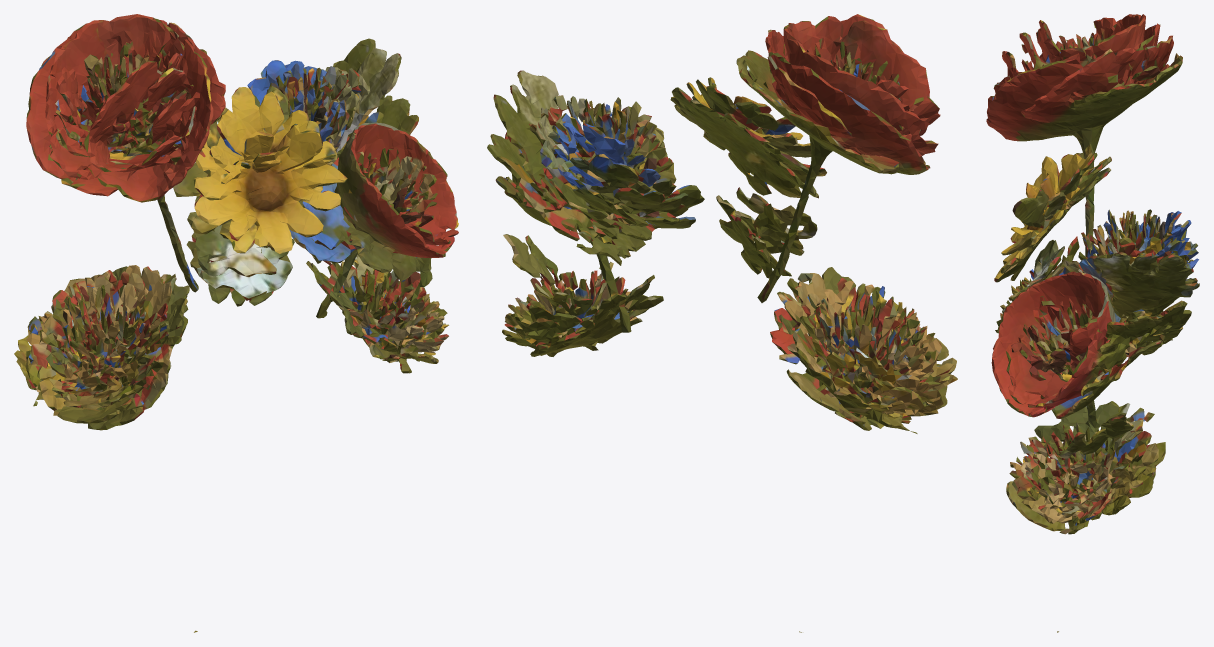
Rendered from prop-flowers.glb.
3 views of the same model, side by side, from view 1: azimuth 30°, elevation 25°; view 2: azimuth 150°, elevation 25°; view 3: azimuth 270°, elevation 25° (orthographic). The views are drawn at different scales.
Visible parts, largest first — view 1: geometry_0; view 2: geometry_0; view 3: geometry_0.
Boxes of the visible parts, x1,y1,x2,y2 form: geometry_0: (14,14,458,632); geometry_0: (487,14,957,632); geometry_0: (986,14,1199,632).
Size of the model in its own units: 1.42 by 1.98 by 0.6446.
Materials: 1 (1 with a texture image).
